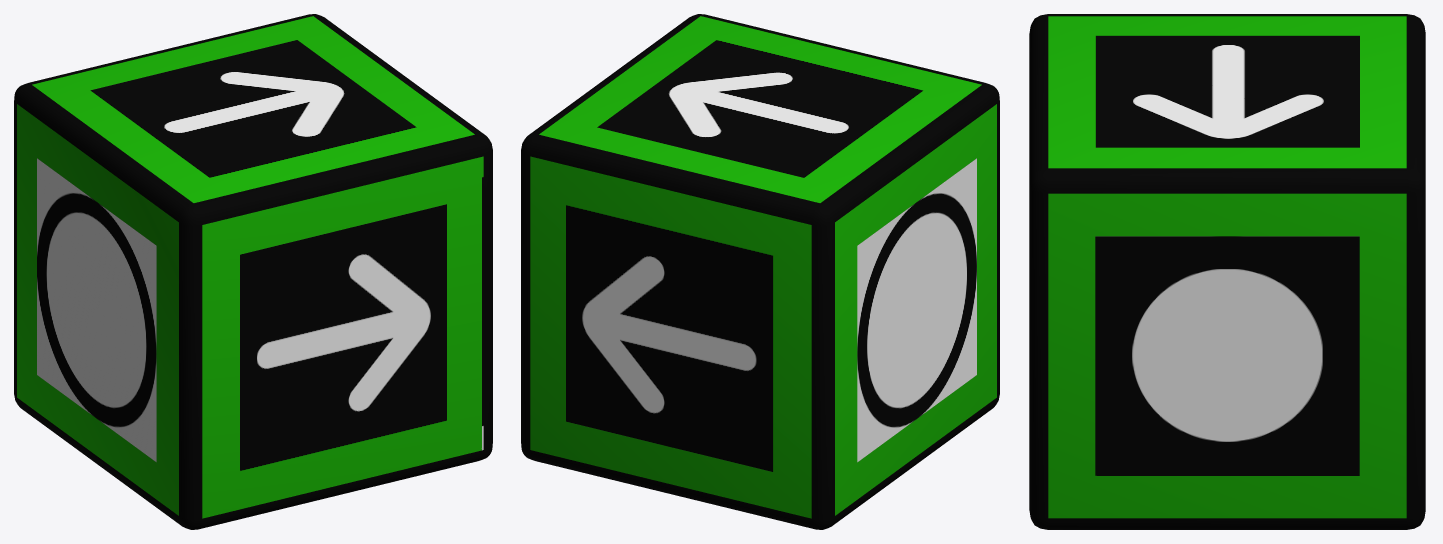
The model's file is BigBoxTapFlowBox_1_1_1_Line.fbx.
3 views of the same model, side by side, from view 1: azimuth 30°, elevation 25°; view 2: azimuth 150°, elevation 25°; view 3: azimuth 270°, elevation 25° (orthographic). The views are drawn at different scales.
Parts seen in each view (by area): view 1: BigBoxTapFlowBox_1_1_1_Line_test; view 2: BigBoxTapFlowBox_1_1_1_Line_test; view 3: BigBoxTapFlowBox_1_1_1_Line_test.
Part boxes in pixels (x1,y1,x2,y2): BigBoxTapFlowBox_1_1_1_Line_test: (14, 14, 492, 529); BigBoxTapFlowBox_1_1_1_Line_test: (521, 14, 999, 529); BigBoxTapFlowBox_1_1_1_Line_test: (1029, 14, 1425, 529).
Size of the model in its own units: 1.06 by 1.07 by 1.06.
Materials: 1 (1 with a texture image).
